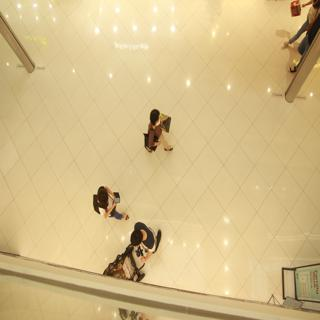person: (85, 175, 123, 232), (144, 100, 173, 173), (130, 219, 165, 263)
